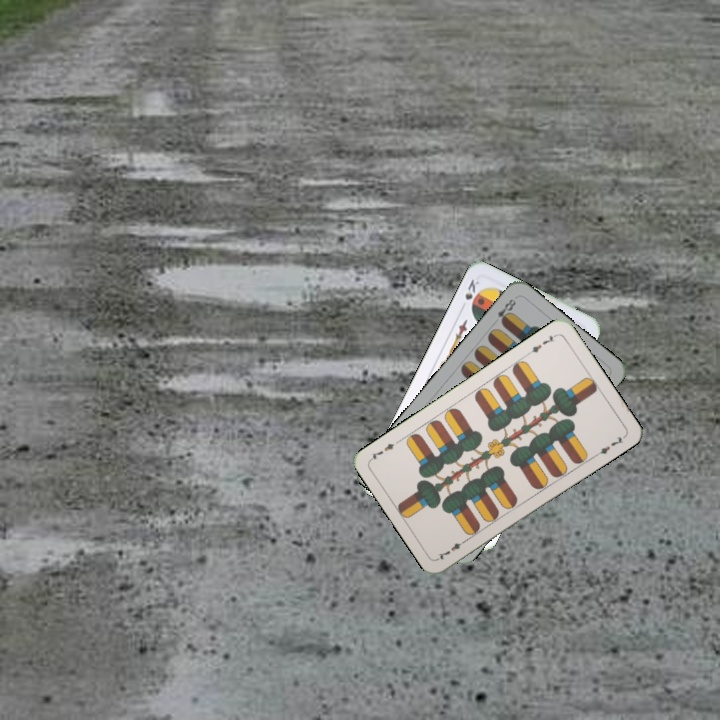E7: (523, 330, 560, 357), (434, 535, 470, 562)
E8: (493, 295, 519, 327)
SK: (457, 274, 482, 313)
